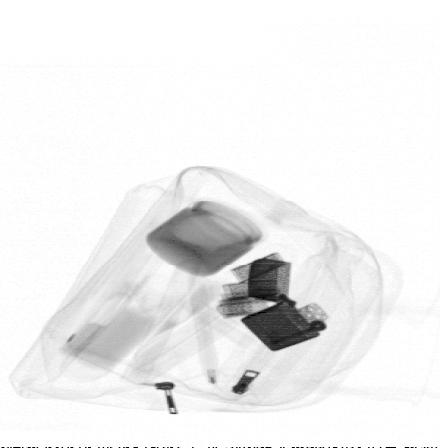Lighter: (239, 256, 331, 352)
